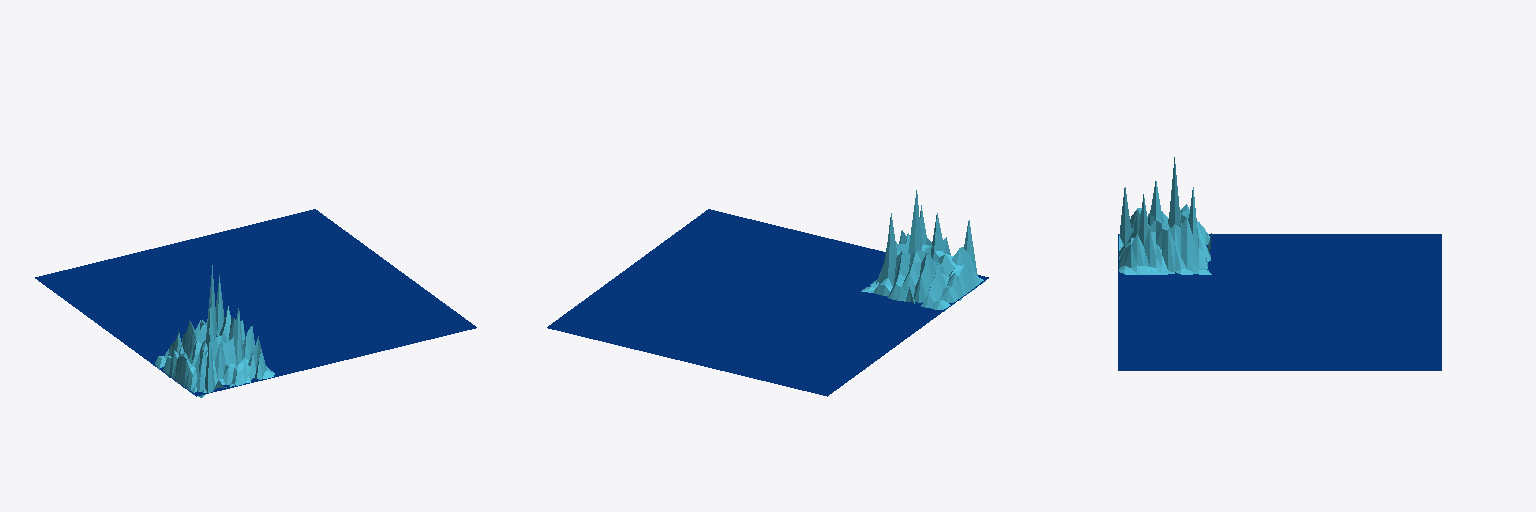
3 renders of one model, left to right at view 1: azimuth 30°, elevation 25°; view 2: azimuth 150°, elevation 25°; view 3: azimuth 270°, elevation 25°, orthographic.
Visible parts, largest first — view 1: Water, Mountain; view 2: Water, Mountain; view 3: Water, Mountain.
Boxes of the visible parts, box(x1,y1,x2,y2) form: Water: box(35, 209, 476, 396); Mountain: box(152, 265, 274, 397); Water: box(547, 209, 988, 396); Mountain: box(861, 190, 983, 311); Water: box(1118, 234, 1441, 370); Mountain: box(1119, 157, 1211, 274).
Bounding box in the file's own units: 800 × 292 × 800.